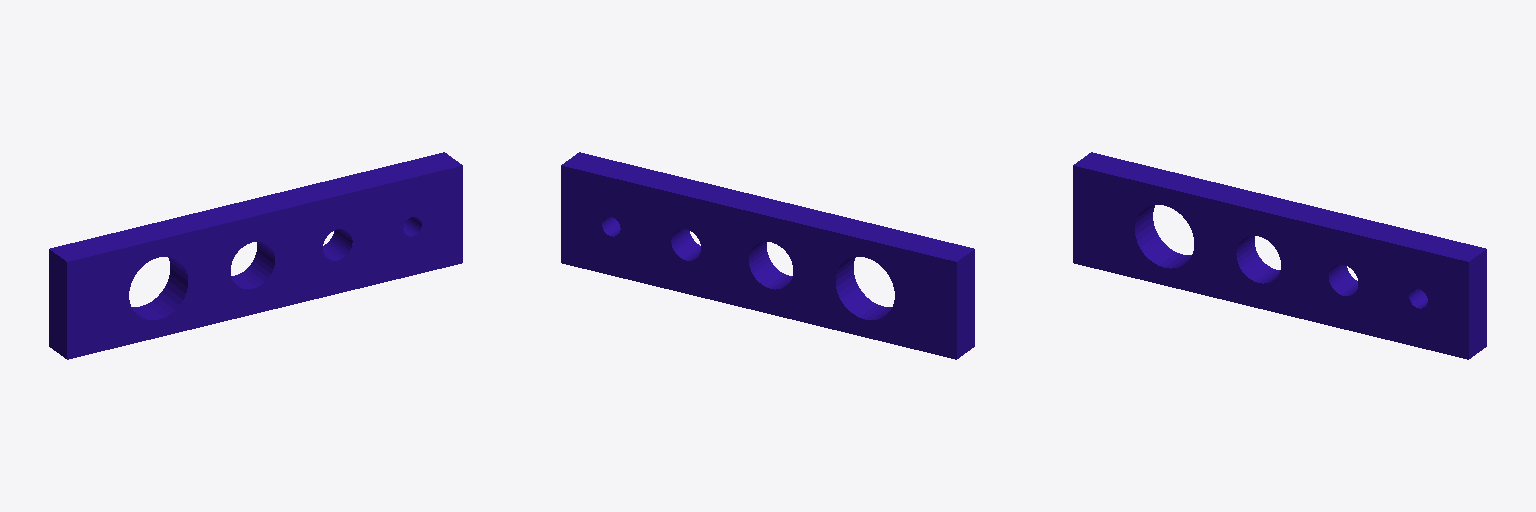
The model's file is Fin1.OBJ.
3 views of the same model, side by side, from view 1: azimuth 30°, elevation 25°; view 2: azimuth 150°, elevation 25°; view 3: azimuth 330°, elevation 25° (orthographic).
Visible parts, largest first — view 1: /ambf/env/Fin1_Fin1_Cube.001; view 2: /ambf/env/Fin1_Fin1_Cube.001; view 3: /ambf/env/Fin1_Fin1_Cube.001.
Part boxes in pixels (x1,y1,x2,y2): /ambf/env/Fin1_Fin1_Cube.001: (49, 152, 462, 359); /ambf/env/Fin1_Fin1_Cube.001: (561, 152, 974, 359); /ambf/env/Fin1_Fin1_Cube.001: (1073, 152, 1486, 359).
Bounding box in the file's own units: 0.3822 × 0.0902 × 0.0304.